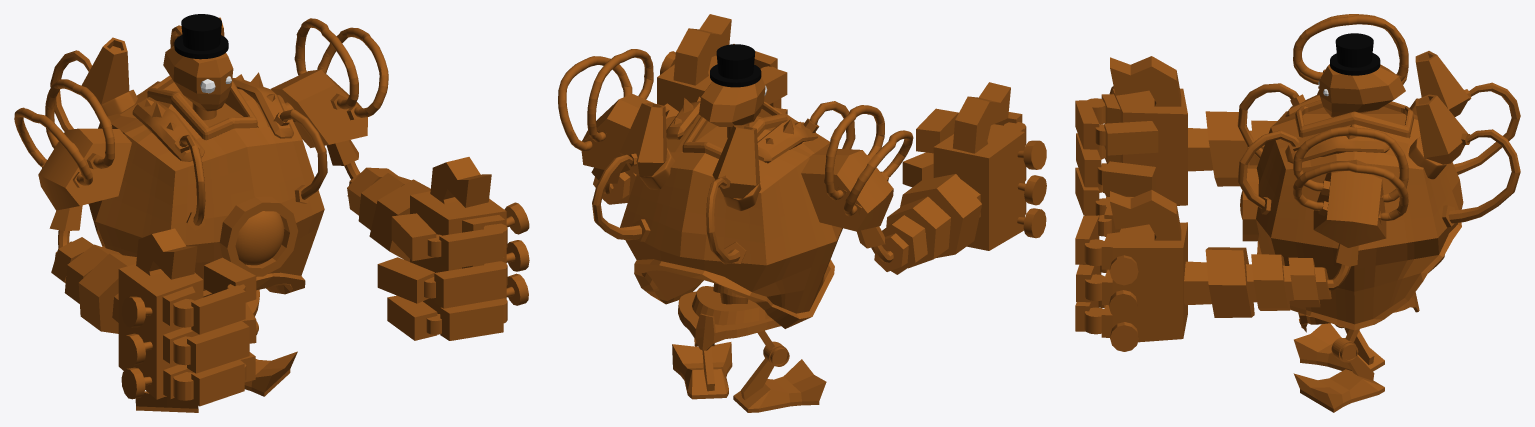
The model's file is blitzkrank.fbx.
3 renders of one model, left to right at view 1: azimuth 30°, elevation 25°; view 2: azimuth 150°, elevation 25°; view 3: azimuth 270°, elevation 25°, orthographic. The views are drawn at different scales.
Parts seen in each view (by area): view 1: Cube.014, Cube, Cylinder.015, Cube.007, Cylinder, Cube.004, Cube.002, Cube.003, Cylinder.009, Cube.001, Cylinder.008, Cylinder.007; view 2: Cube.014, Cube, Cylinder.015, Cube.002, Cube.004, Cylinder.005, Cube.007, Cylinder.004, Cube.003, Cylinder.008, Cylinder.009, Cylinder.007; view 3: Cube.014, Cube, Cylinder.015, Cube.002, Cube.004, Cylinder.009, Cube.003, Cube.007, Cylinder.008, Cylinder, Cylinder.007, Cylinder.005.
Boxes of the visible parts, x1=… form: Cube.014: x1=14, y1=18, x2=529, y2=406; Cube: x1=88, y1=81, x2=324, y2=297; Cylinder.015: x1=50, y1=17, x2=224, y2=131; Cube.007: x1=132, y1=78, x2=293, y2=161; Cylinder: x1=219, y1=196, x2=297, y2=276; Cube.004: x1=163, y1=46, x2=233, y2=111; Cube.002: x1=135, y1=321, x2=297, y2=412; Cube.003: x1=147, y1=75, x2=257, y2=139; Cylinder.009: x1=179, y1=109, x2=327, y2=225; Cube.001: x1=235, y1=211, x2=284, y2=265; Cylinder.008: x1=181, y1=14, x2=221, y2=50; Cylinder.007: x1=174, y1=35, x2=228, y2=59; Cube.014: x1=558, y1=14, x2=1046, y2=274; Cube: x1=620, y1=108, x2=842, y2=328; Cylinder.015: x1=592, y1=103, x2=761, y2=264; Cube.002: x1=672, y1=330, x2=826, y2=412; Cube.004: x1=699, y1=77, x2=765, y2=126; Cylinder.005: x1=678, y1=291, x2=780, y2=350; Cube.007: x1=666, y1=101, x2=817, y2=163; Cylinder.004: x1=692, y1=286, x2=770, y2=325; Cube.003: x1=682, y1=101, x2=787, y2=158; Cylinder.008: x1=716, y1=44, x2=755, y2=79; Cylinder.009: x1=810, y1=101, x2=855, y2=149; Cylinder.007: x1=710, y1=64, x2=761, y2=87; Cube.014: x1=1075, y1=14, x2=1408, y2=351; Cube: x1=1256, y1=106, x2=1463, y2=330; Cylinder.015: x1=1408, y1=51, x2=1520, y2=227; Cube.002: x1=1293, y1=323, x2=1384, y2=412; Cube.004: x1=1319, y1=64, x2=1405, y2=117; Cylinder.009: x1=1237, y1=83, x2=1299, y2=208; Cube.003: x1=1295, y1=100, x2=1413, y2=137; Cube.007: x1=1285, y1=94, x2=1389, y2=163; Cylinder.008: x1=1335, y1=33, x2=1373, y2=67; Cylinder: x1=1242, y1=165, x2=1258, y2=241; Cylinder.007: x1=1330, y1=53, x2=1380, y2=75; Cylinder.005: x1=1298, y1=292, x2=1419, y2=332.
Bounding box in the file's own units: 1189 × 1034 × 1242.
